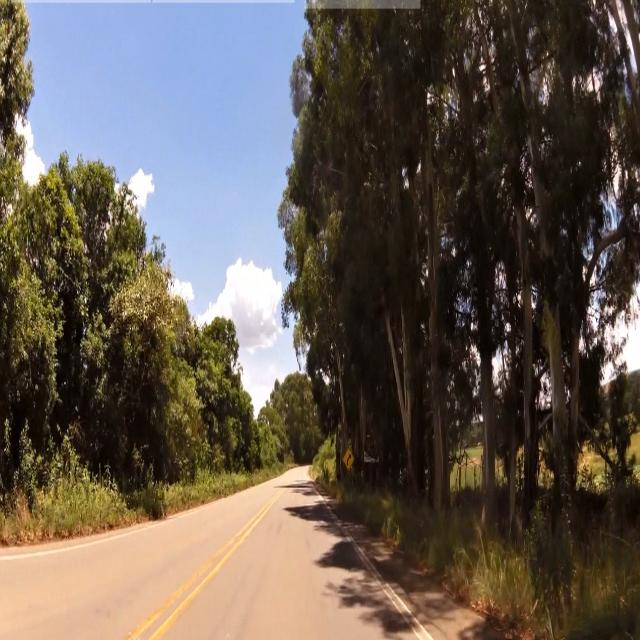A-2b: (344, 446, 354, 474)
